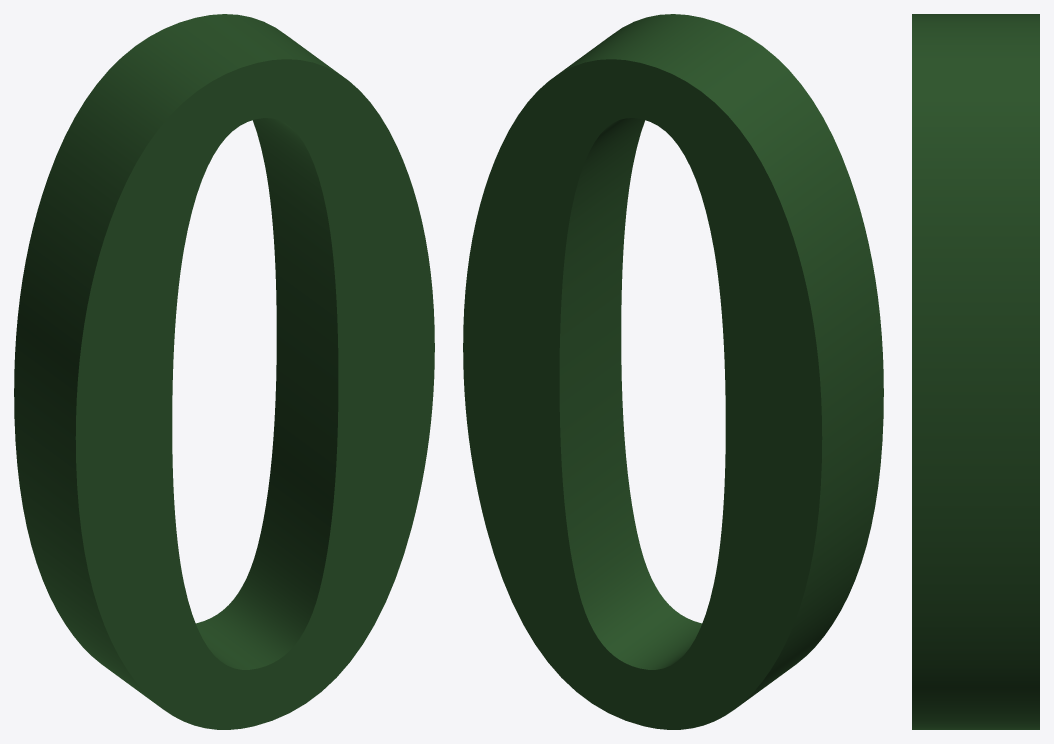
The picture shows the model from 3 angles, left to right: view 1: azimuth 30°, elevation 25°; view 2: azimuth 150°, elevation 25°; view 3: azimuth 270°, elevation 25°; orthographic projection. The views are drawn at different scales.
Parts seen in each view (by area): view 1: 0; view 2: 0; view 3: 0.
Part boxes in pixels (box(x1,y1,x2,y2)): 0: box(14, 14, 434, 729); 0: box(463, 14, 883, 729); 0: box(912, 14, 1039, 729).
Size of the model in its own units: 0.336 by 0.5925 by 0.1.
